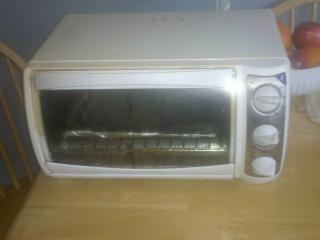apple: (292, 21, 320, 49), (276, 20, 292, 49), (299, 46, 320, 68), (288, 52, 308, 70)
orange: (298, 46, 319, 68), (276, 20, 292, 48)
